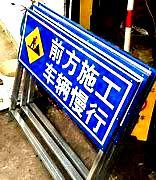sign: (24, 17, 118, 129)
